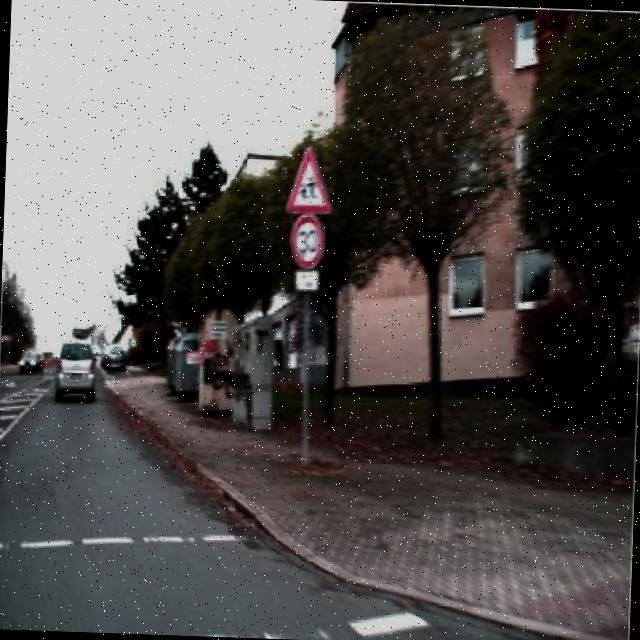Ograniczenie predkosci do 30: (288, 213, 328, 274)
